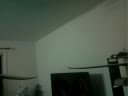window: (3, 0, 115, 95)
